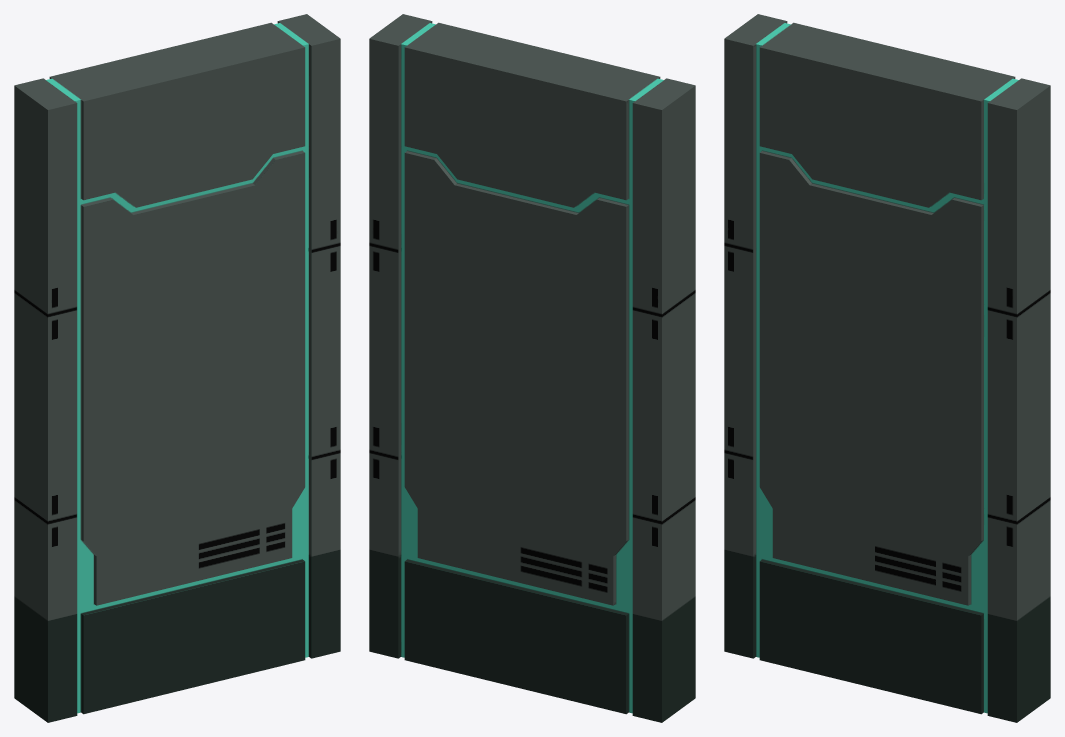
The model's file is Wall.fbx.
3 renders of one model, left to right at view 1: azimuth 30°, elevation 25°; view 2: azimuth 150°, elevation 25°; view 3: azimuth 330°, elevation 25°, orthographic.
Visible parts, largest first — view 1: Wall; view 2: Wall; view 3: Wall.
Boxes of the visible parts, left/top/right/bottom form: Wall: left=14, top=14, right=340, bottom=722; Wall: left=369, top=14, right=695, bottom=722; Wall: left=724, top=14, right=1050, bottom=722.
Bounding box in the file's own units: 150 × 300 × 30.
